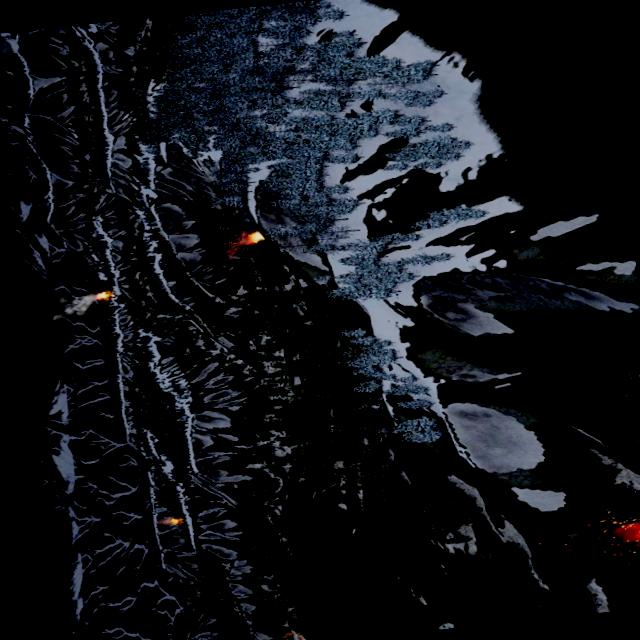fire: (615, 517, 640, 546), (248, 228, 264, 242), (163, 514, 182, 524), (95, 290, 111, 300)
smoke: (50, 288, 100, 320)
